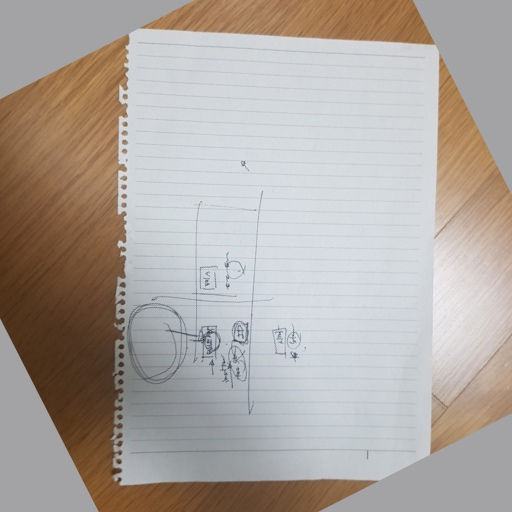Paper_2: (111, 22, 455, 497)
